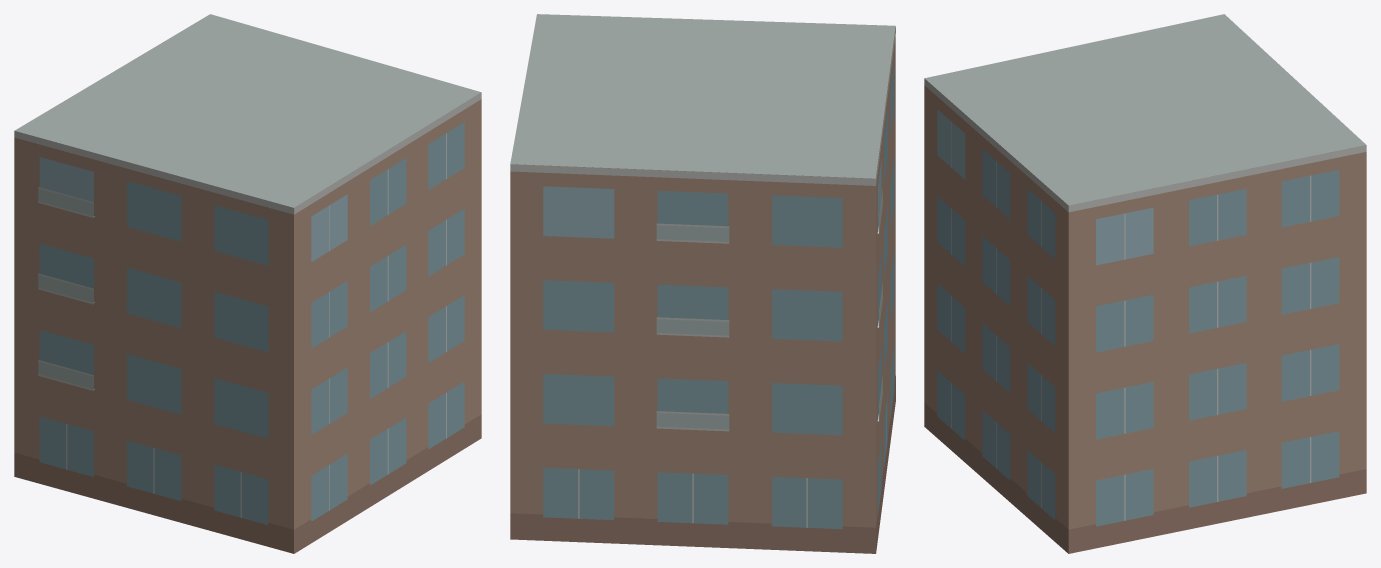
File: survey-upis-32628117.glb
3 renders of one model, left to right at view 1: azimuth 30°, elevation 25°; view 2: azimuth 150°, elevation 25°; view 3: azimuth 270°, elevation 25°, orthographic. The views are drawn at different scales.
Visible parts, largest first — view 1: survey-upis-32628117.tmp; view 2: survey-upis-32628117.tmp; view 3: survey-upis-32628117.tmp.
Part boxes in pixels (box(x1,y1,x2,y2)): survey-upis-32628117.tmp: box(14, 14, 481, 553); survey-upis-32628117.tmp: box(510, 14, 895, 553); survey-upis-32628117.tmp: box(924, 14, 1366, 553).
Bounding box in the file's own units: 14.75 × 12.5 × 14.39.
